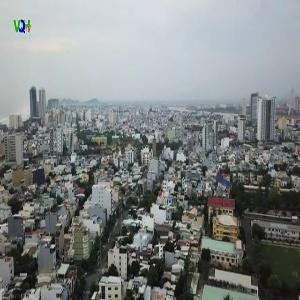drone: (196, 161, 246, 211)
